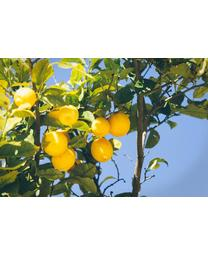lemon: (43, 131, 68, 157), (52, 147, 76, 171), (92, 138, 115, 162), (57, 105, 79, 126), (109, 116, 130, 137), (92, 116, 112, 138)
